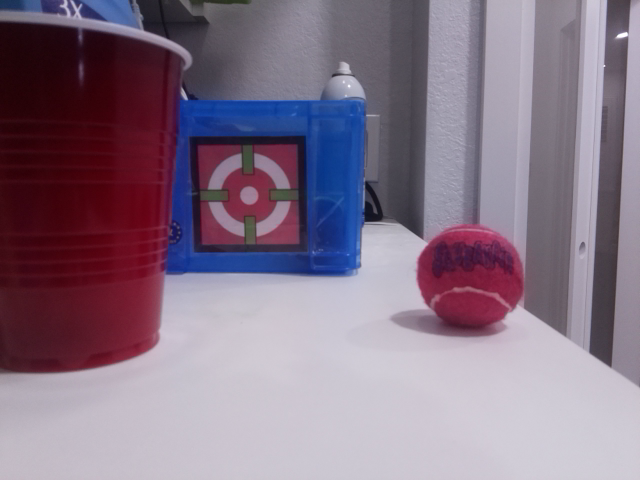drop-bin: (188, 134, 309, 252)
red-ball: (415, 222, 528, 330)
